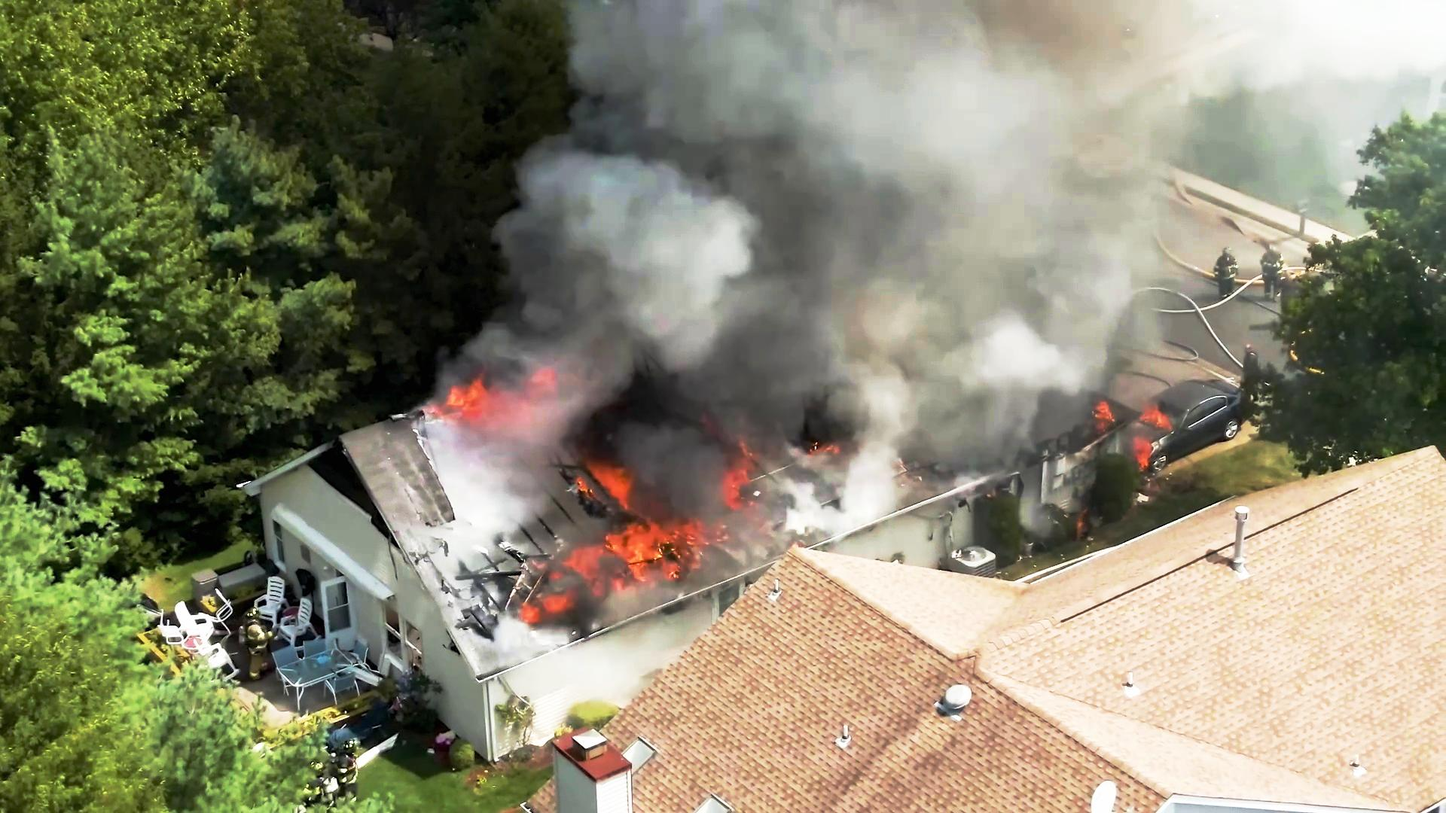fire: (548, 463, 689, 596)
smoke: (805, 0, 1074, 424), (561, 0, 901, 320)
